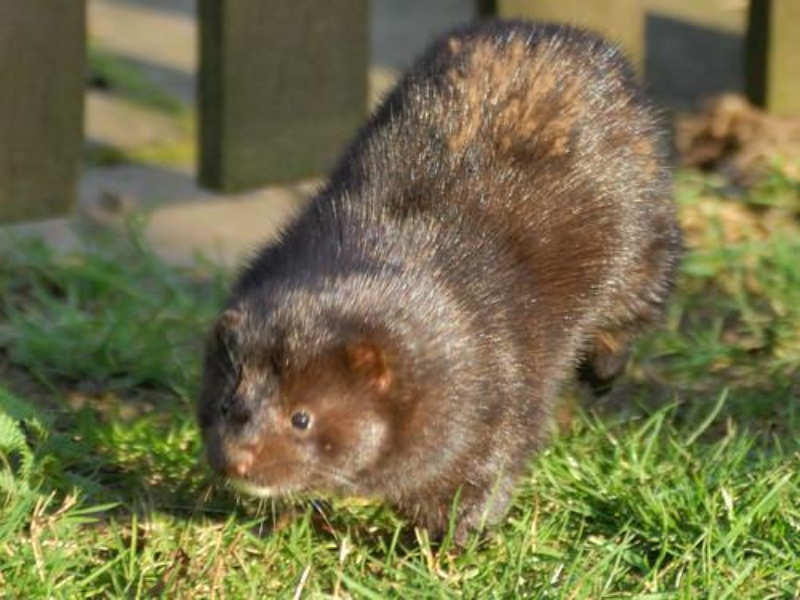minkish: (191, 16, 674, 543)
